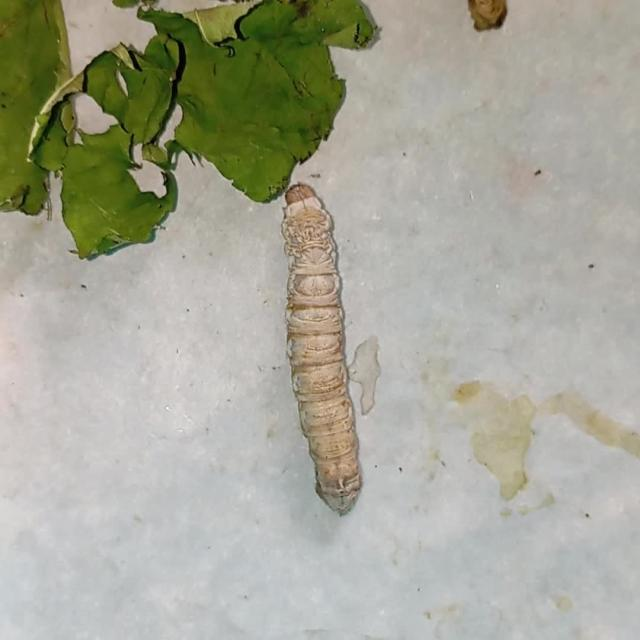Grasserie: (232, 157, 419, 534)
